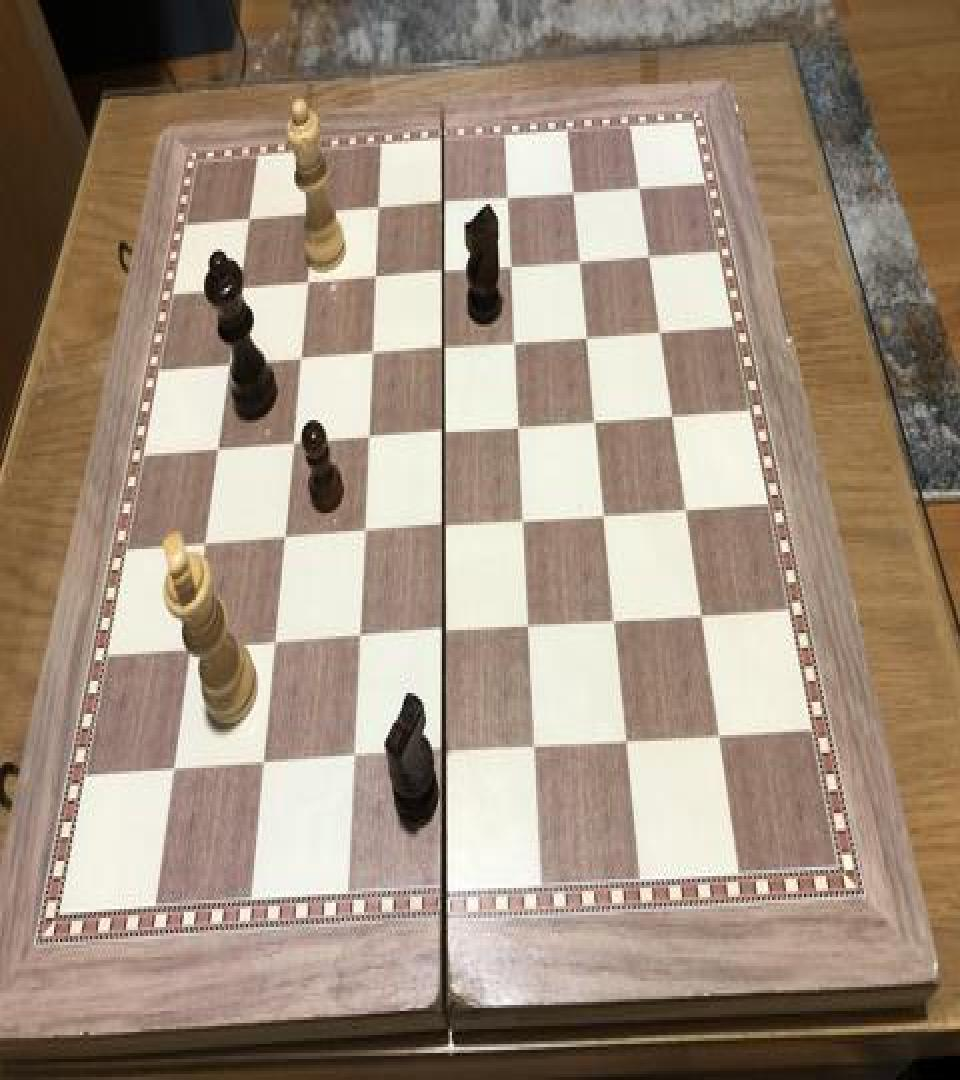xcorner: (689, 601, 713, 638), (346, 625, 370, 662), (261, 631, 285, 668), (522, 733, 546, 770), (431, 739, 455, 776), (626, 170, 650, 206), (560, 176, 584, 212), (494, 182, 518, 218), (429, 186, 453, 222), (364, 192, 388, 228), (299, 198, 323, 234), (235, 204, 259, 240), (636, 238, 660, 274), (567, 244, 591, 280), (498, 250, 522, 286), (429, 256, 453, 292), (361, 262, 385, 298), (293, 267, 317, 303), (226, 273, 250, 309), (648, 315, 672, 351), (574, 321, 598, 357), (502, 327, 526, 363), (429, 333, 453, 369), (358, 339, 382, 375), (286, 345, 310, 381), (215, 350, 239, 386), (660, 400, 684, 436), (583, 406, 607, 442), (430, 418, 454, 454), (354, 424, 378, 460), (279, 429, 303, 465), (204, 435, 228, 471), (674, 495, 698, 531), (592, 501, 616, 537), (511, 507, 535, 543), (430, 513, 454, 549), (350, 519, 374, 555), (271, 525, 295, 561), (192, 530, 216, 566), (602, 608, 626, 644), (516, 614, 540, 650), (430, 620, 454, 656), (178, 636, 202, 672), (707, 723, 731, 759), (614, 729, 638, 765), (340, 746, 364, 782), (251, 752, 275, 788), (162, 756, 186, 792), (506, 413, 530, 448)
